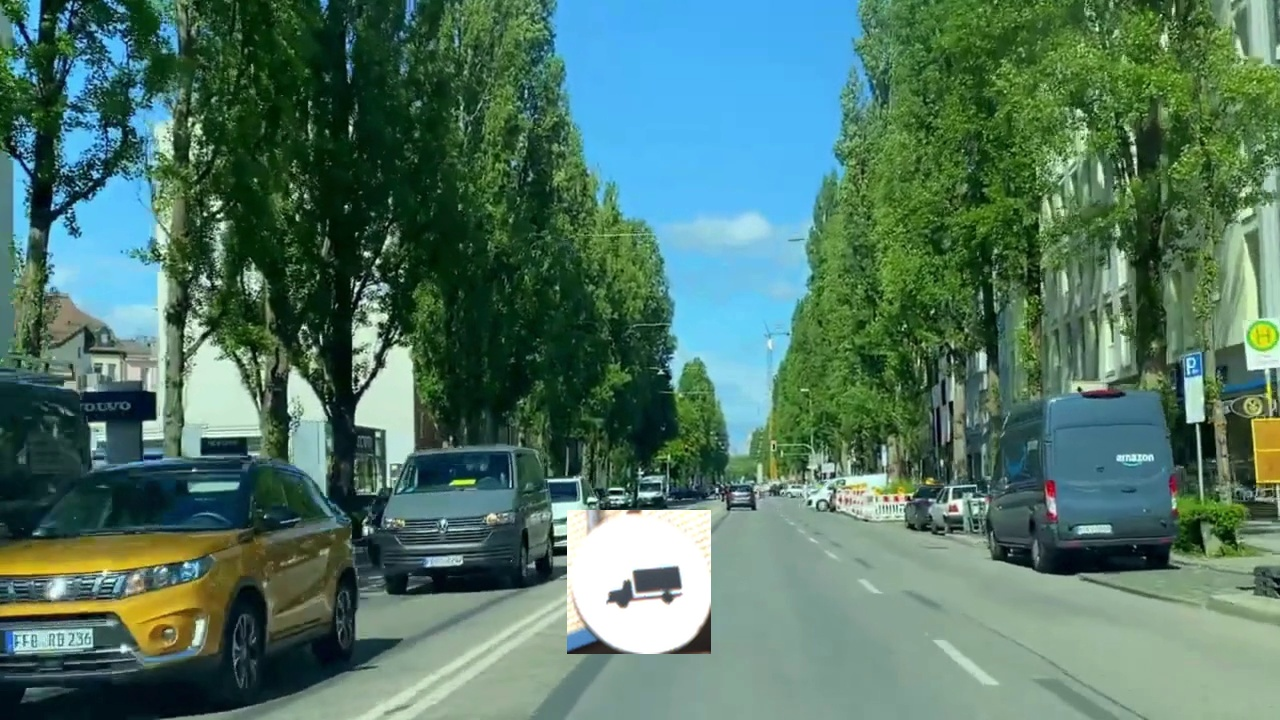Veh >3.5t prohib: (567, 510, 711, 654)
